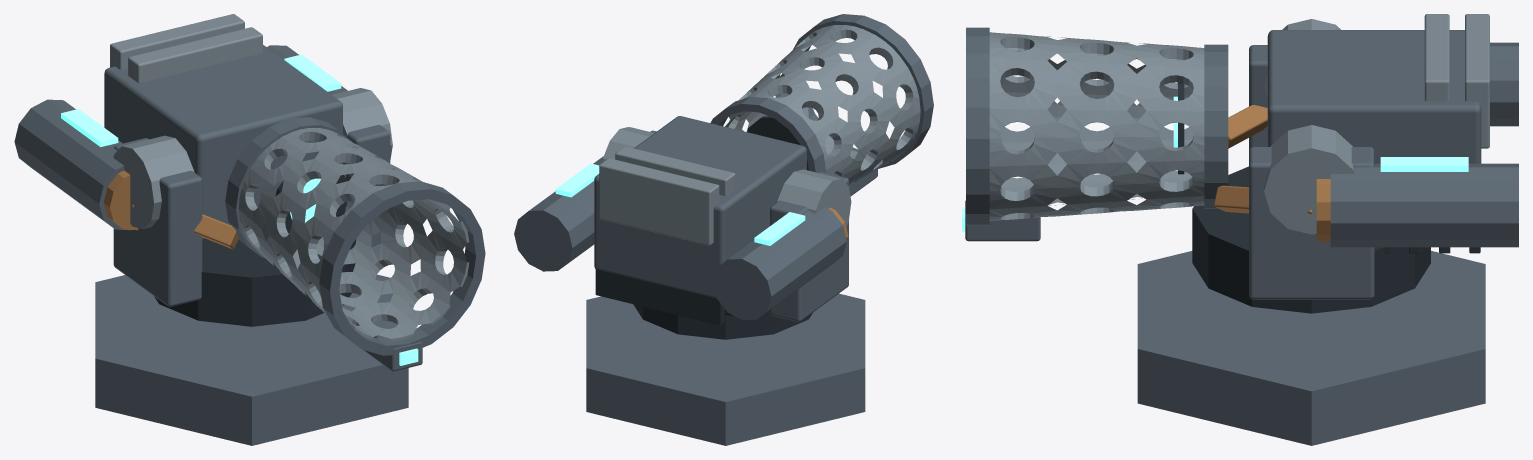
File: plasma_t1_d0.meshopt.glb
The picture shows the model from 3 angles, left to right: view 1: azimuth 30°, elevation 25°; view 2: azimuth 150°, elevation 25°; view 3: azimuth 270°, elevation 25°; orthographic projection. The views are drawn at different scales.
Visible parts, largest first — view 1: RECOIL_ARMOR_GEOMETRY, BASE_ARMOR_GEOMETRY, YAW_ARMOR_GEOMETRY, RECOIL_SIGNAL_GEOMETRY; view 2: RECOIL_ARMOR_GEOMETRY, BASE_ARMOR_GEOMETRY, YAW_ARMOR_GEOMETRY, RECOIL_SIGNAL_GEOMETRY; view 3: RECOIL_ARMOR_GEOMETRY, BASE_ARMOR_GEOMETRY, YAW_ARMOR_GEOMETRY, RECOIL_SIGNAL_GEOMETRY.
Part boxes in pixels (left/top/right/bottom): RECOIL_ARMOR_GEOMETRY: left=14, top=14, right=485, bottom=371; BASE_ARMOR_GEOMETRY: left=95, top=274, right=408, bottom=445; YAW_ARMOR_GEOMETRY: left=113, top=92, right=390, bottom=326; RECOIL_SIGNAL_GEOMETRY: left=61, top=54, right=418, bottom=365; RECOIL_ARMOR_GEOMETRY: left=514, top=14, right=933, bottom=325; BASE_ARMOR_GEOMETRY: left=586, top=293, right=865, bottom=445; YAW_ARMOR_GEOMETRY: left=633, top=130, right=848, bottom=339; RECOIL_SIGNAL_GEOMETRY: left=555, top=163, right=805, bottom=245; RECOIL_ARMOR_GEOMETRY: left=965, top=14, right=1518, bottom=253; BASE_ARMOR_GEOMETRY: left=1137, top=251, right=1485, bottom=445; YAW_ARMOR_GEOMETRY: left=1192, top=45, right=1430, bottom=313; RECOIL_SIGNAL_GEOMETRY: left=962, top=96, right=1468, bottom=231.
Size of the model in its own units: 1.6 by 1.43 by 2.22.
